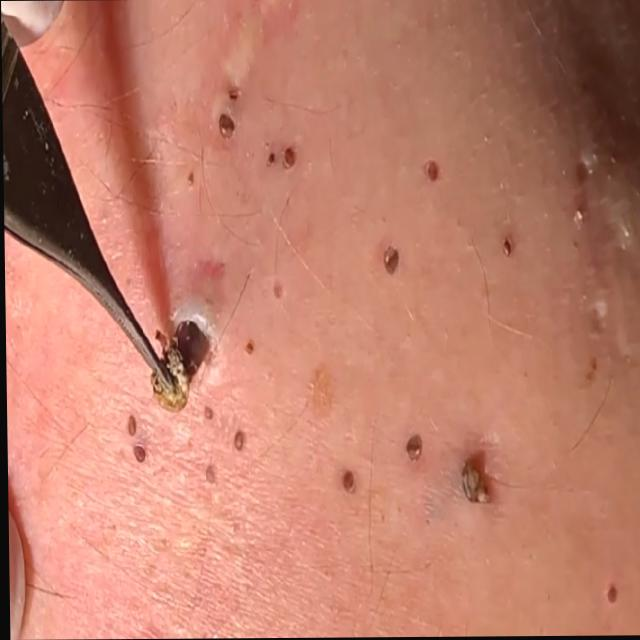dark spot: (449, 449, 498, 523), (374, 236, 400, 284), (401, 425, 423, 473), (417, 147, 444, 186), (331, 458, 356, 498), (277, 138, 296, 182), (494, 225, 512, 271), (597, 574, 619, 610), (213, 104, 233, 142), (119, 409, 138, 441), (196, 458, 215, 490), (229, 417, 245, 454), (196, 403, 217, 429), (128, 439, 146, 465)
